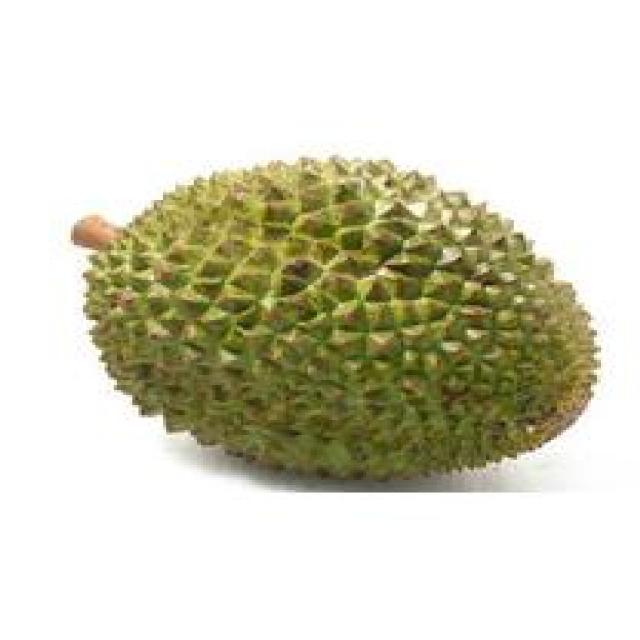fruit: (43, 118, 403, 498), (258, 120, 624, 485)
